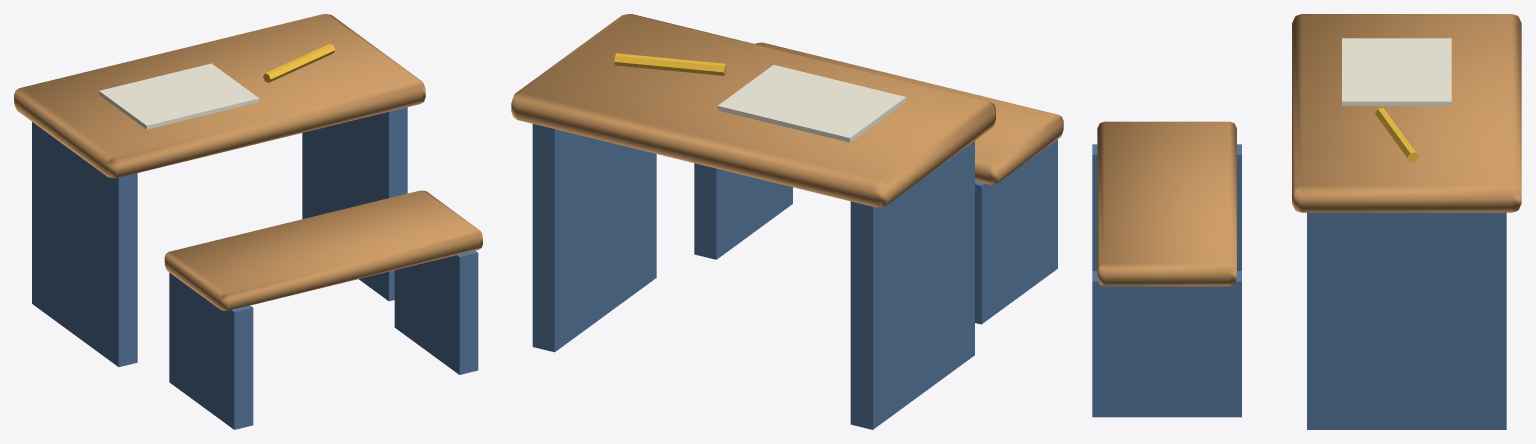
Rendered from v_furn_desk.glb.
The picture shows the model from 3 angles, left to right: view 1: azimuth 30°, elevation 25°; view 2: azimuth 150°, elevation 25°; view 3: azimuth 270°, elevation 25°; orthographic projection. The views are drawn at different scales.
Visible parts, largest first — view 1: Desk; view 2: Desk; view 3: Desk.
Boxes of the visible parts, x1,y1,x2,y2 form: Desk: (14, 14, 482, 429); Desk: (511, 14, 1063, 429); Desk: (1092, 14, 1521, 429).
Bounding box in the file's own units: 0.85 × 0.5754 × 0.86.
